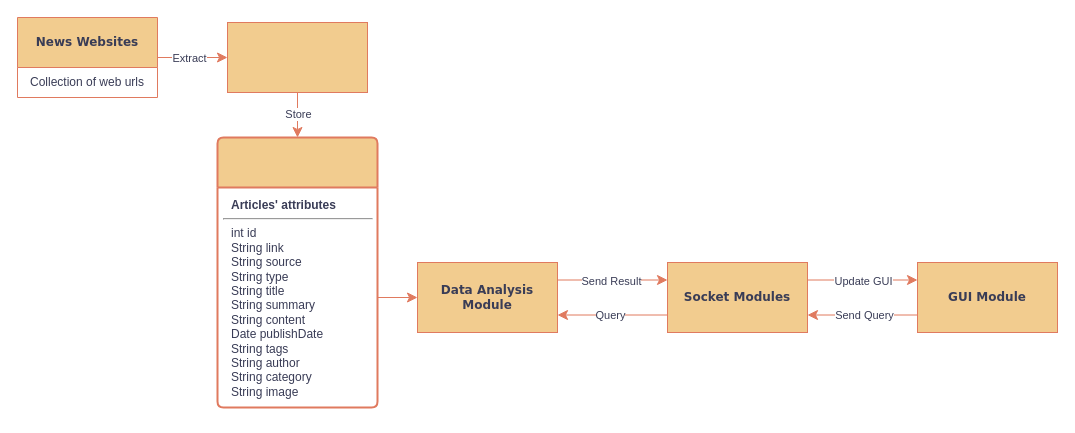
This 1075x433 diagram has some shape labels left out. The box of each missing label's shape, as (x1, y1, x2, y2) in pixels:
Data Collection Module: (226, 22, 368, 92)
Database: (216, 136, 378, 408)
